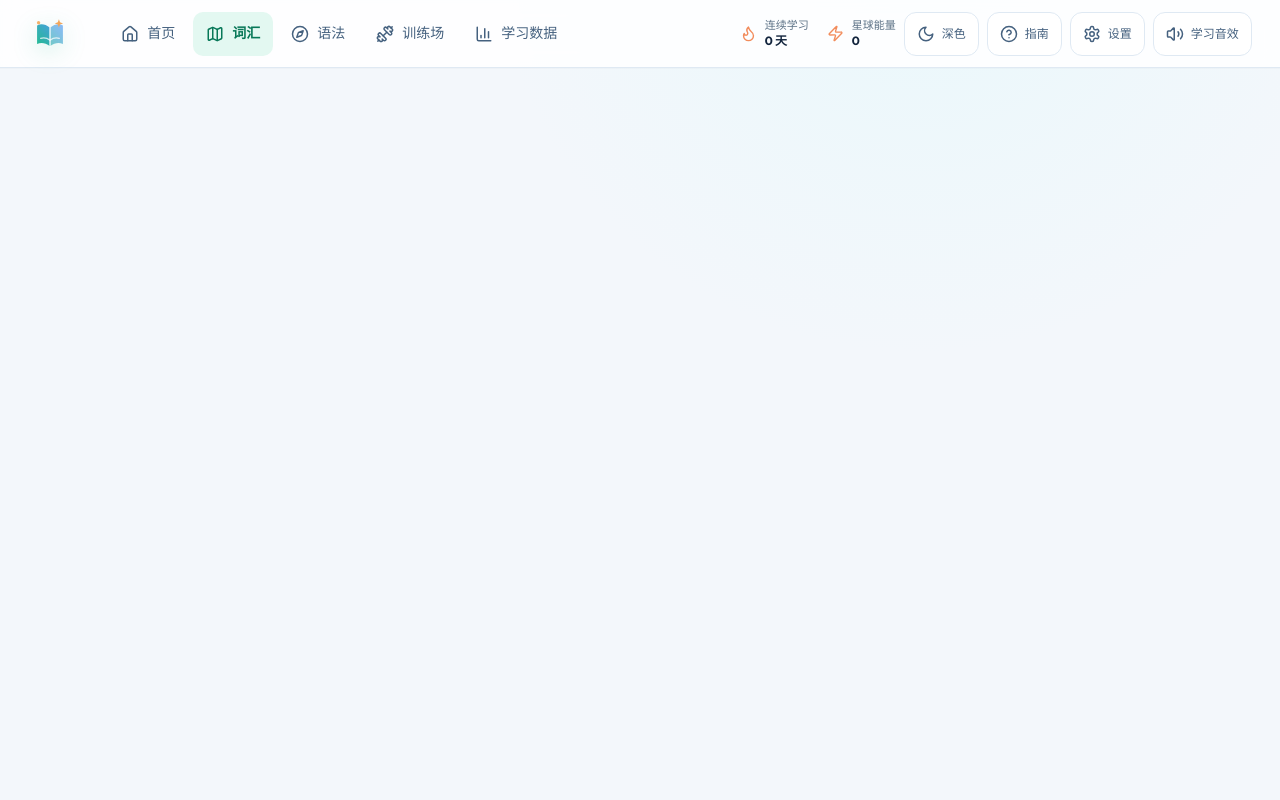
Test case: opens learning settings from the single settings button
Step 1. Click the button "设置" → coordinates (1107, 34), box [1070,12,1145,56]
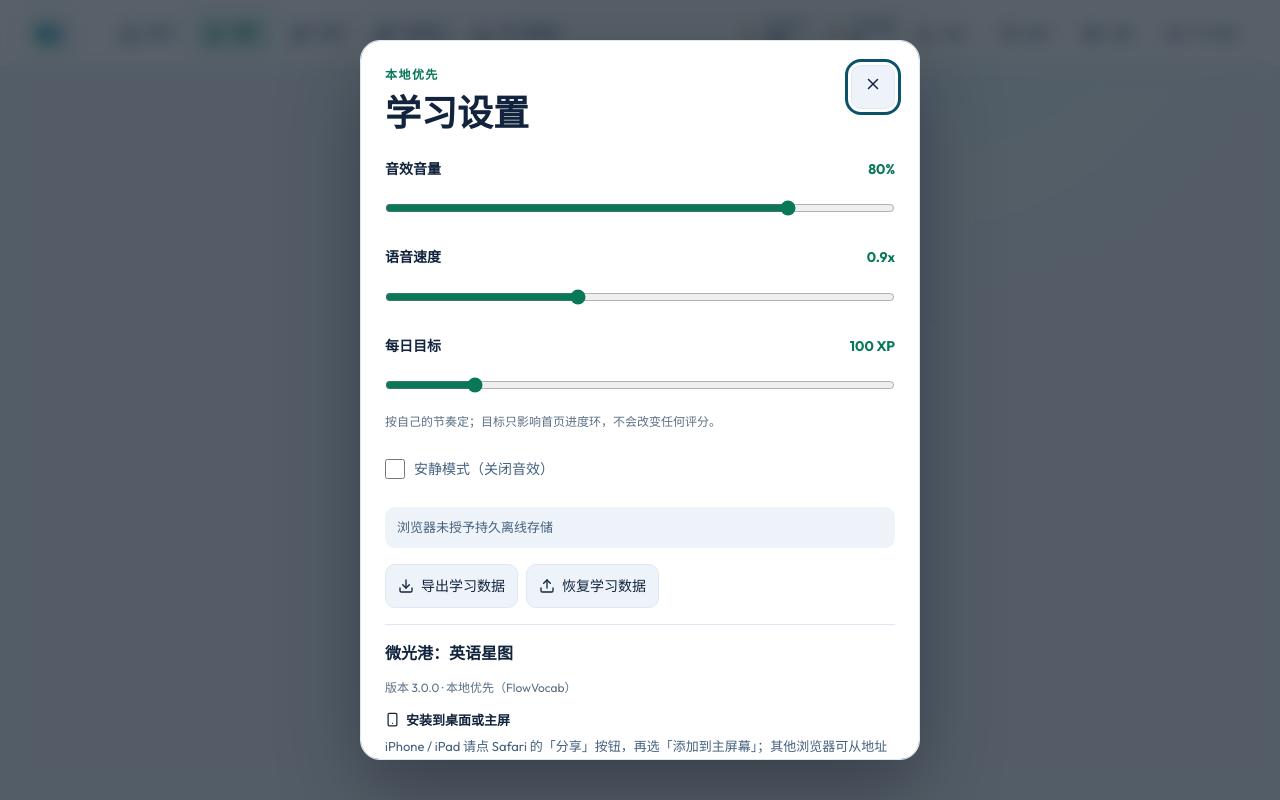
Check: the dialog "学习设置" is shown, box [360,40,920,760]
